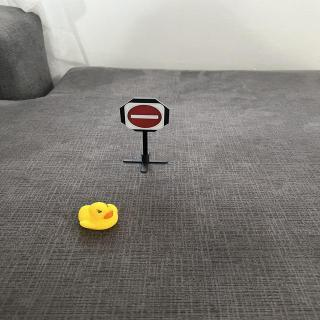duck_regular: (77, 202, 122, 232)
sign_noentry: (125, 102, 167, 132)
